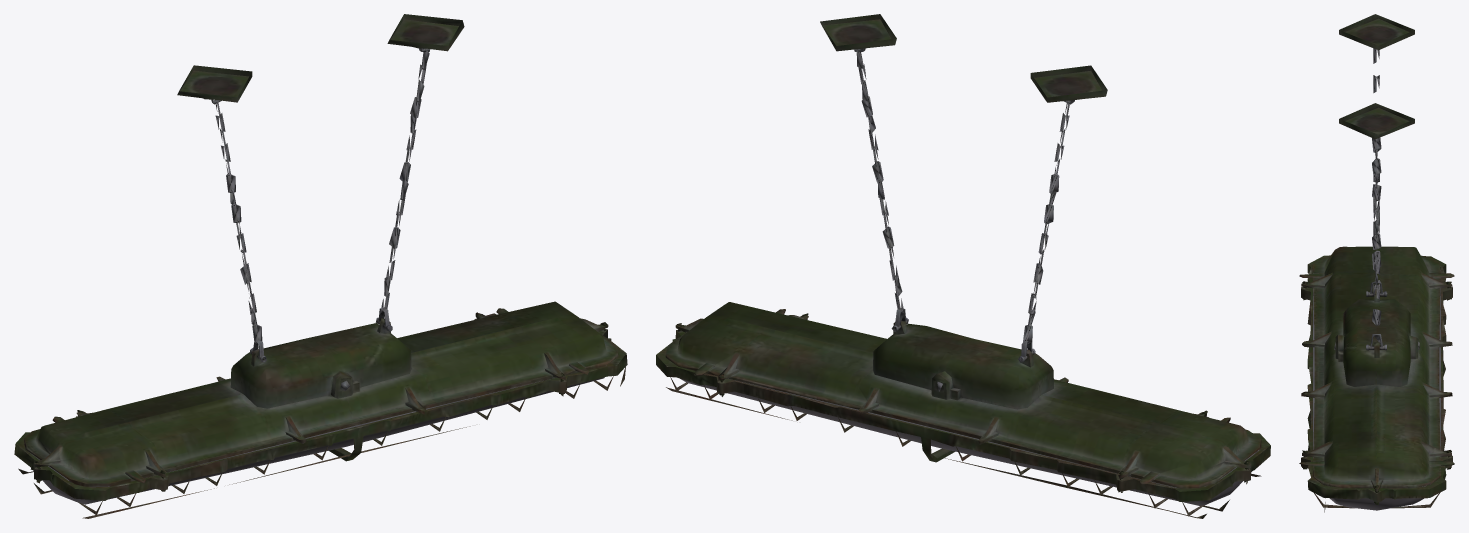
Rendered from caged_hanging_light.glb.
The picture shows the model from 3 angles, left to right: view 1: azimuth 30°, elevation 25°; view 2: azimuth 150°, elevation 25°; view 3: azimuth 270°, elevation 25°; orthographic projection. The views are drawn at different scales.
Visible parts, largest first — view 1: caged_hanging_light; view 2: caged_hanging_light; view 3: caged_hanging_light.
Boxes of the visible parts, x1,y1,x2,y2 form: caged_hanging_light: [14, 14, 627, 518]; caged_hanging_light: [656, 14, 1270, 518]; caged_hanging_light: [1299, 14, 1454, 512].
Size of the model in its own units: 1.16 by 0.7501 by 0.3149.
Materials: 1 (1 with a texture image).
